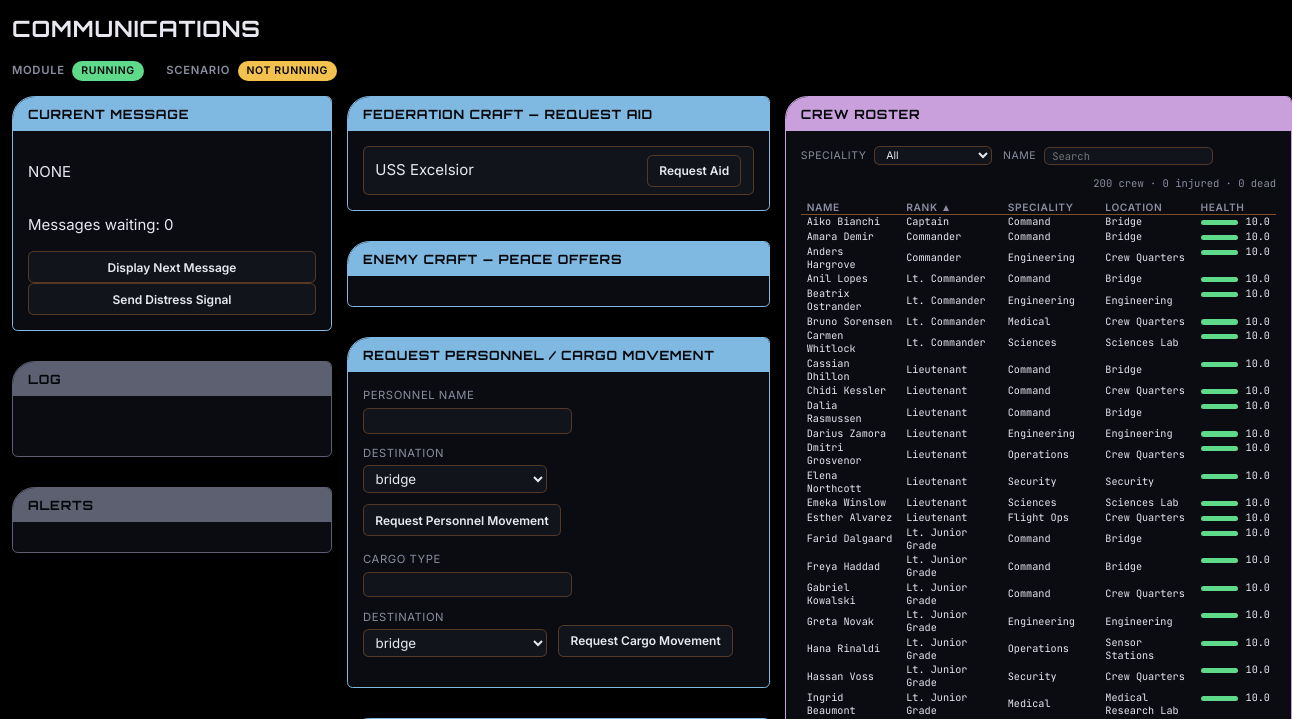
Test: CommunicationsStation › requests aid from a listed federation craft by clicking its button (point-and-click, no typed command)
Click the button with test id "request-aid-USS Excelsior": (694, 171) x1=647 y1=155 x2=742 y2=187
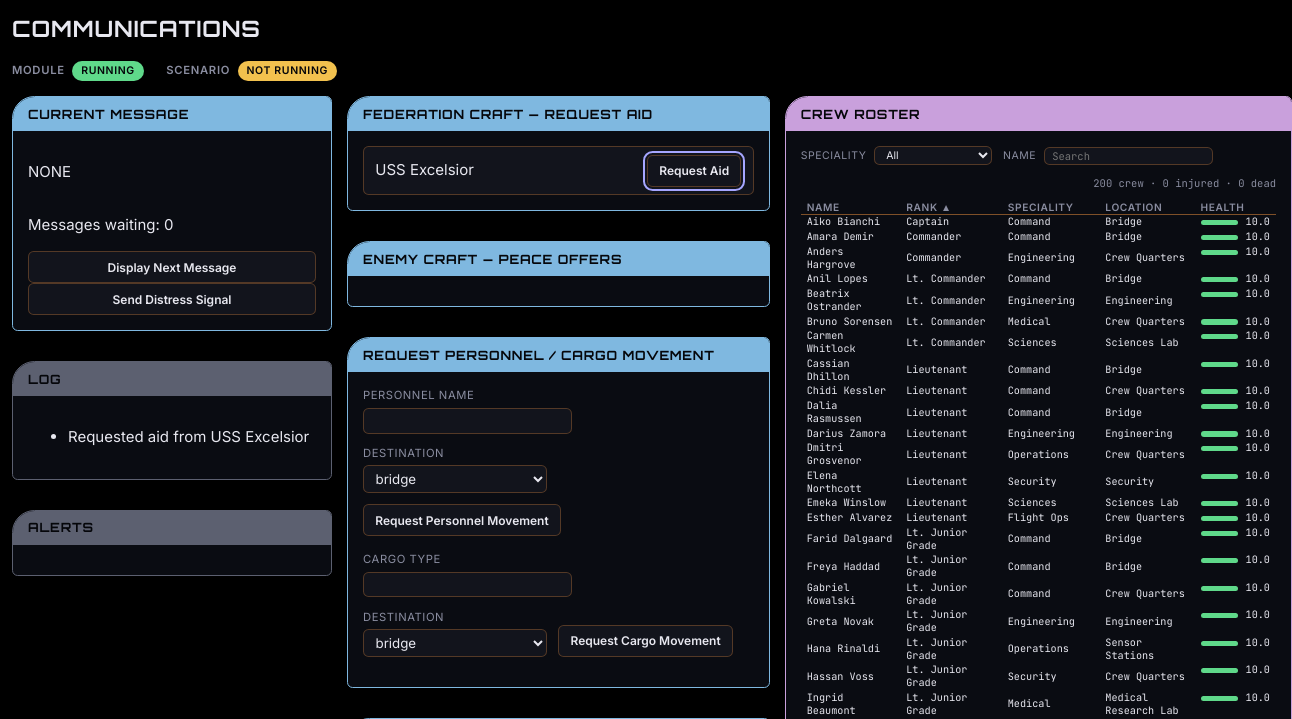
Expected: the list with test id "comms-log" shows "USS Excelsior", x1=68 y1=427 x2=309 y2=446
